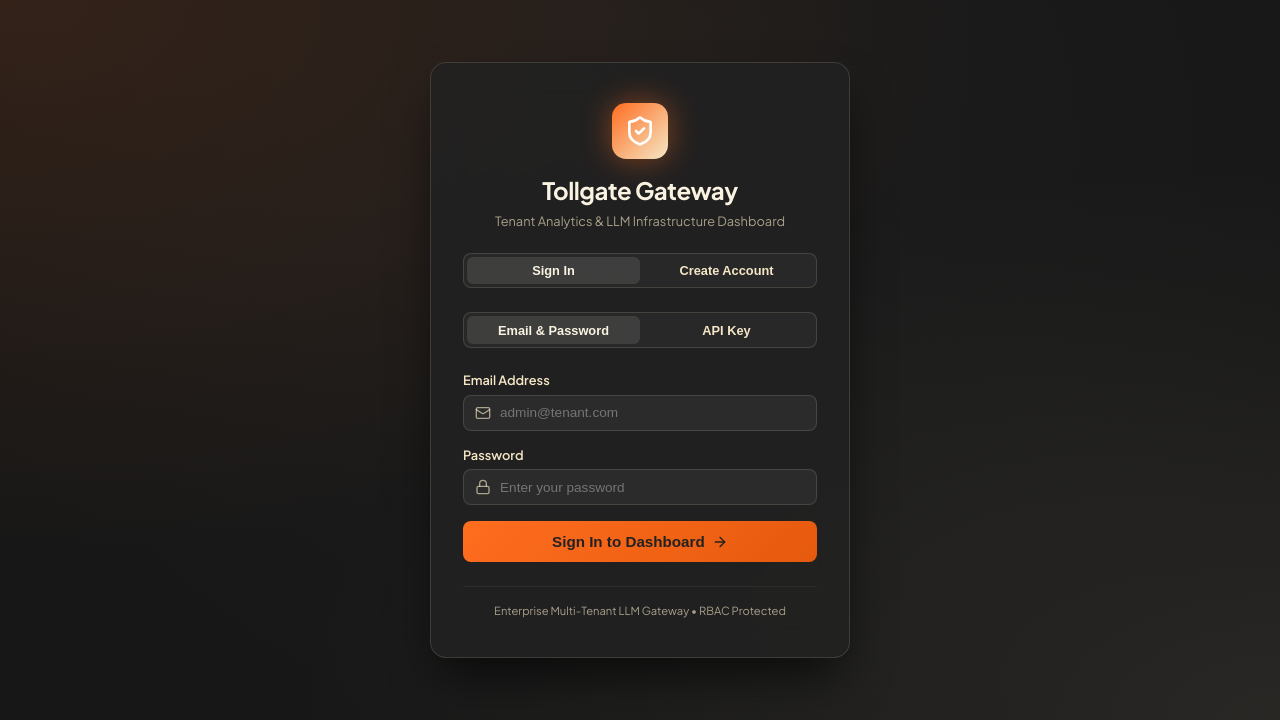
LoginPage › switches between Password and API Key modes
Step 1. Click the button "API Key" → (726, 330), box [640, 316, 813, 344]
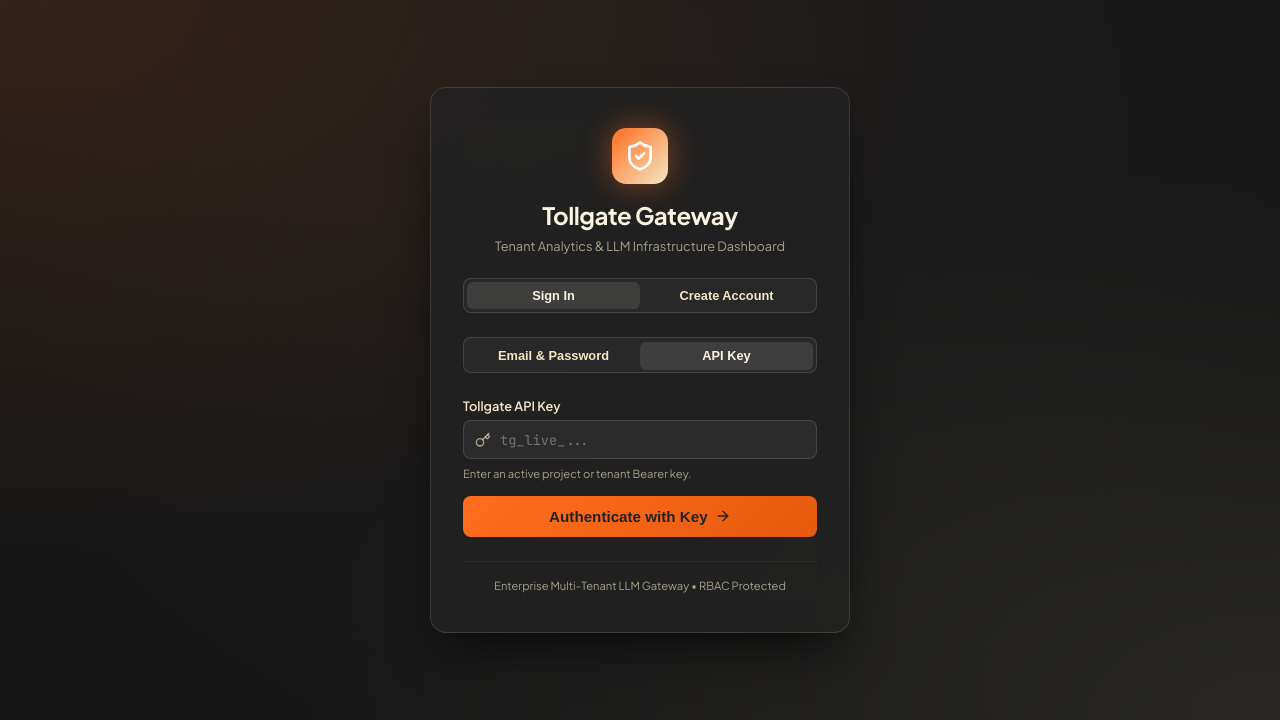
expect the password field with placeholder "tg_live_..." is shown: met, box [463, 420, 817, 459]
